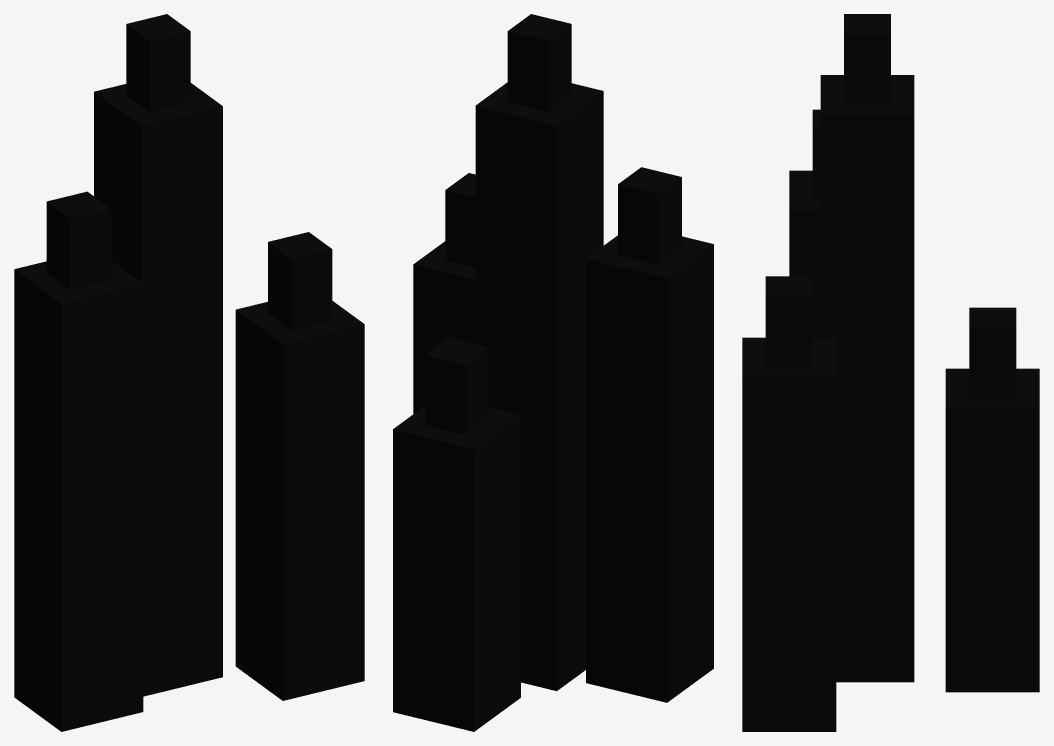
Rendered from ObsidianShards.obj.
3 views of the same model, side by side, from view 1: azimuth 30°, elevation 25°; view 2: azimuth 150°, elevation 25°; view 3: azimuth 270°, elevation 25° (orthographic).
Parts seen in each view (by area): view 1: ObsidianShards; view 2: ObsidianShards; view 3: ObsidianShards.
Part boxes in pixels (<box>): ObsidianShards: <box>14,14,364,731</box>; ObsidianShards: <box>393,14,713,731</box>; ObsidianShards: <box>742,14,1039,731</box>.
Size of the model in its own units: 4.1 by 9 by 3.8.
